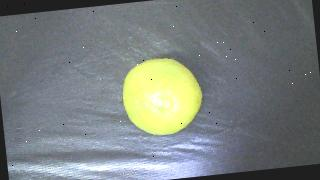LOCAL: (118, 55, 205, 139)
